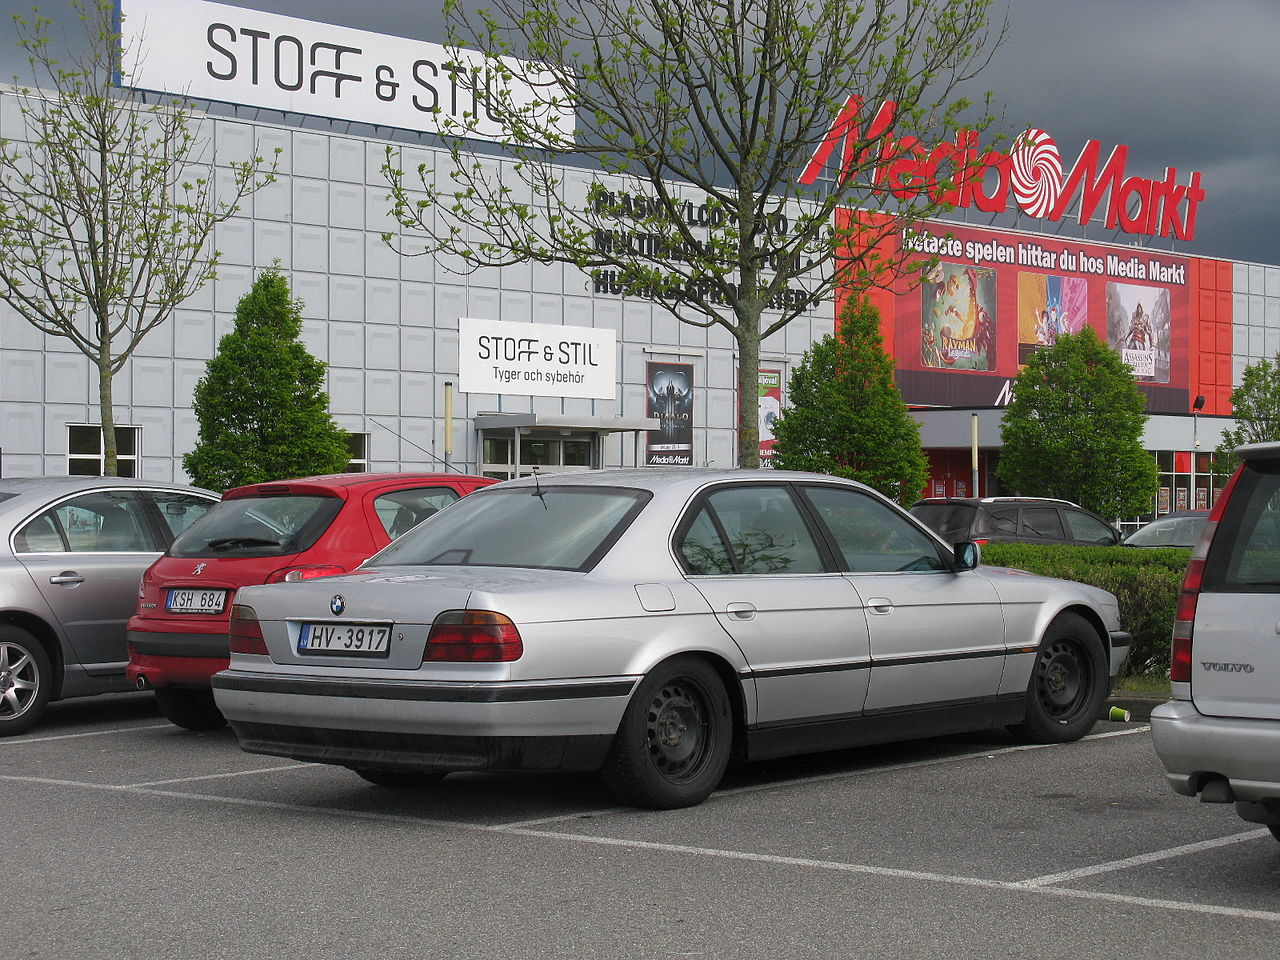plate: (296, 622, 392, 657), (164, 587, 227, 613)
